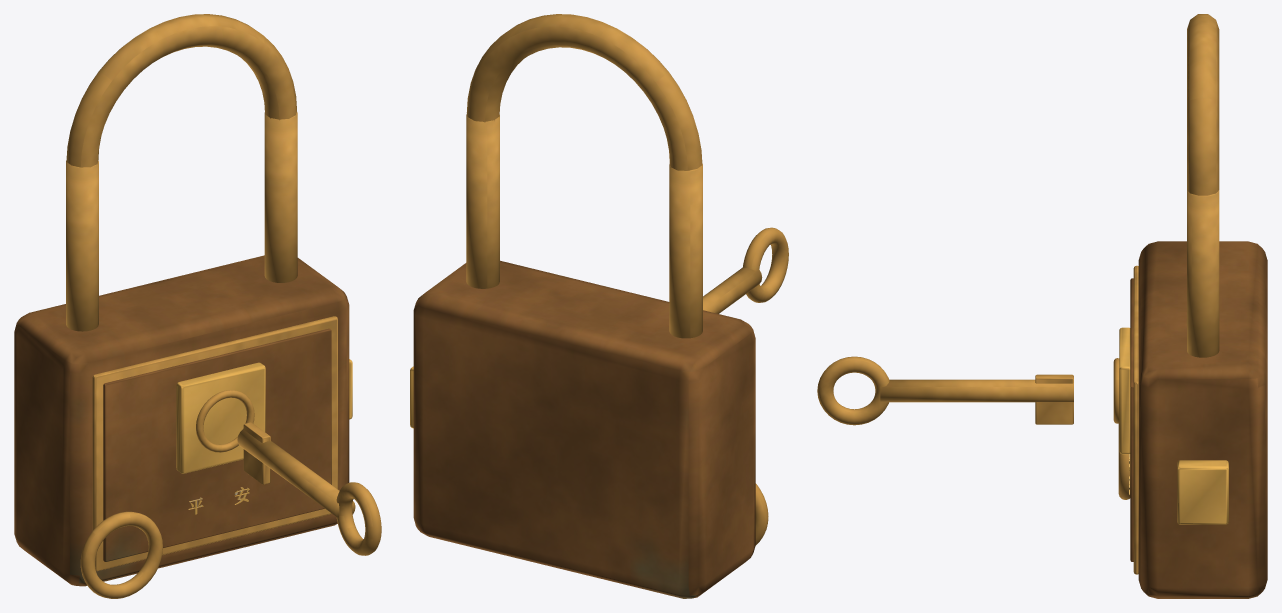
File: padlock.glb
The picture shows the model from 3 angles, left to right: view 1: azimuth 30°, elevation 25°; view 2: azimuth 150°, elevation 25°; view 3: azimuth 270°, elevation 25°; orthographic projection. The views are drawn at different scales.
Parts seen in each view (by area): view 1: pl_body, pl_3, pl_0, pl_1, pl_4; view 2: pl_body, pl_3, pl_1, pl_4; view 3: pl_body, pl_3, pl_1, pl_2, pl_0, pl_4.
Boxes of the visible parts, <box> form: pl_body: <box>14,255,349,586</box>; pl_3: <box>66,14,297,331</box>; pl_0: <box>176,362,265,473</box>; pl_1: <box>237,422,381,555</box>; pl_4: <box>80,511,162,598</box>; pl_body: <box>413,260,755,598</box>; pl_3: <box>466,14,702,338</box>; pl_1: <box>703,227,788,313</box>; pl_4: <box>755,483,768,545</box>; pl_body: <box>1129,241,1267,598</box>; pl_3: <box>1187,14,1219,357</box>; pl_1: <box>817,356,1073,425</box>; pl_2: <box>1177,460,1228,524</box>; pl_0: <box>1113,327,1130,454</box>; pl_4: <box>1118,423,1130,499</box>.
Size of the model in its own units: 0.106 by 0.177 by 0.1395.
Materials: 4 (3 with a texture image).
